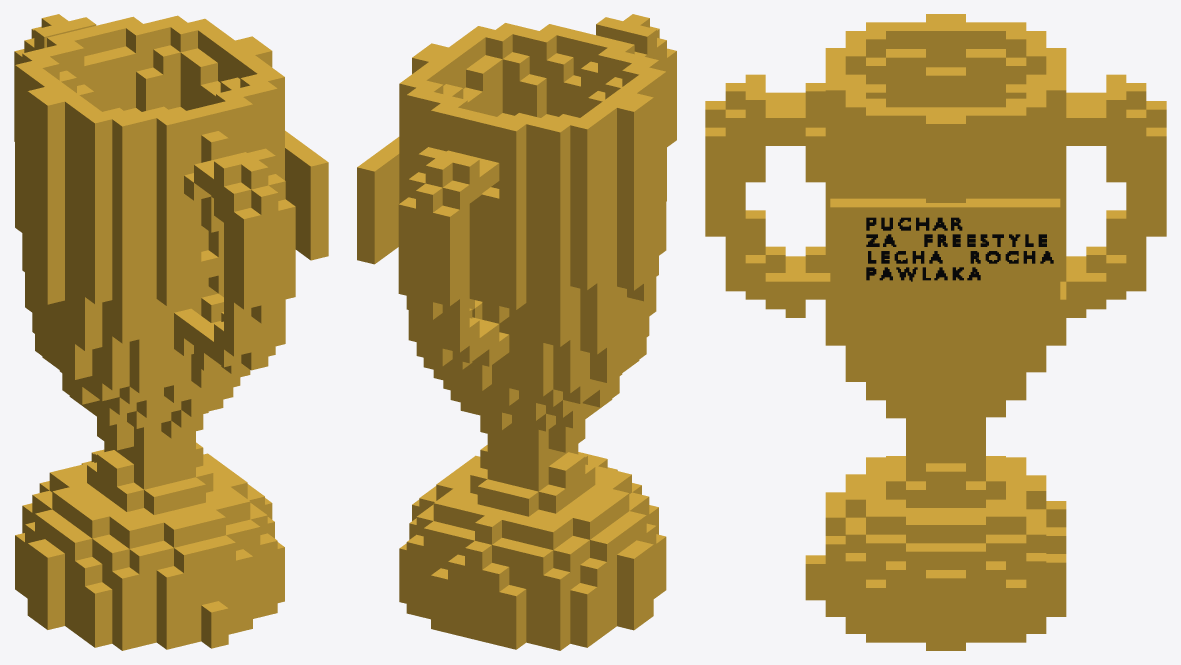
Rendered from Trophy.fbx.
3 renders of one model, left to right at view 1: azimuth 30°, elevation 25°; view 2: azimuth 150°, elevation 25°; view 3: azimuth 270°, elevation 25°, orthographic.
Parts seen in each view (by area): view 1: Cube.001; view 2: Cube.001; view 3: Cube.001.
Part boxes in pixels (x1,y1,x2,y2): Cube.001: (14,14,328,650); Cube.001: (357,14,676,650); Cube.001: (705,14,1166,650).
Size of the model in its own units: 76.26 by 163 by 129.
